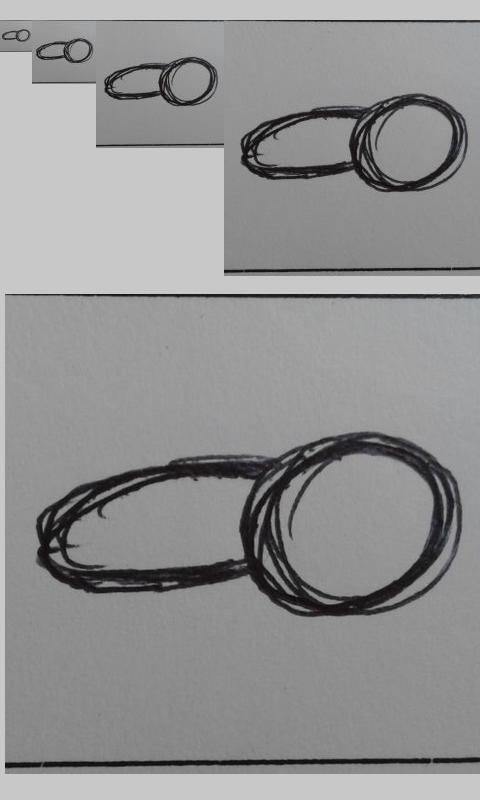switch: (34, 430, 463, 618), (239, 92, 468, 193), (103, 56, 219, 108), (35, 37, 94, 64), (1, 29, 31, 42)
